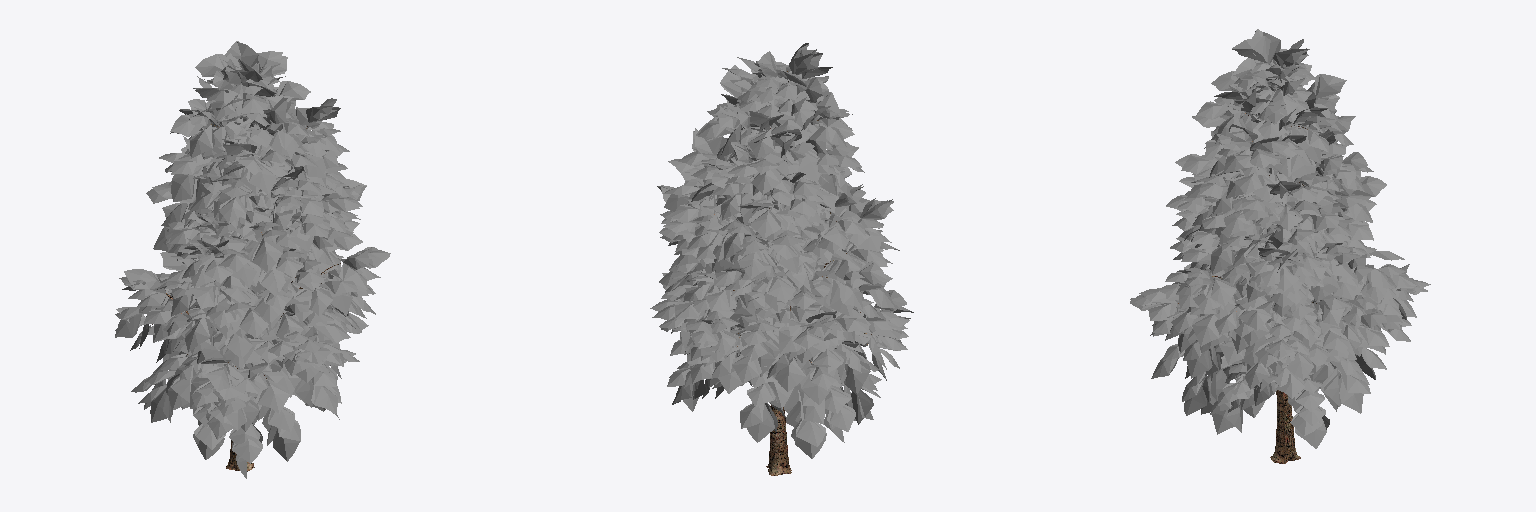
3 renders of one model, left to right at view 1: azimuth 30°, elevation 25°; view 2: azimuth 150°, elevation 25°; view 3: azimuth 270°, elevation 25°, orthographic.
Parts seen in each view (by area): view 1: g2; view 2: g2, g1; view 3: g2, g1.
Part boxes in pixels (bbox=[...]): g2: bbox=[115, 41, 390, 478]; g2: bbox=[650, 43, 913, 458]; g1: bbox=[714, 71, 871, 475]; g2: bbox=[1130, 29, 1430, 448]; g1: bbox=[1178, 87, 1316, 463].
Bounding box in the file's own units: 4.24 × 7.59 × 4.99.
Materials: 2 (1 with a texture image).